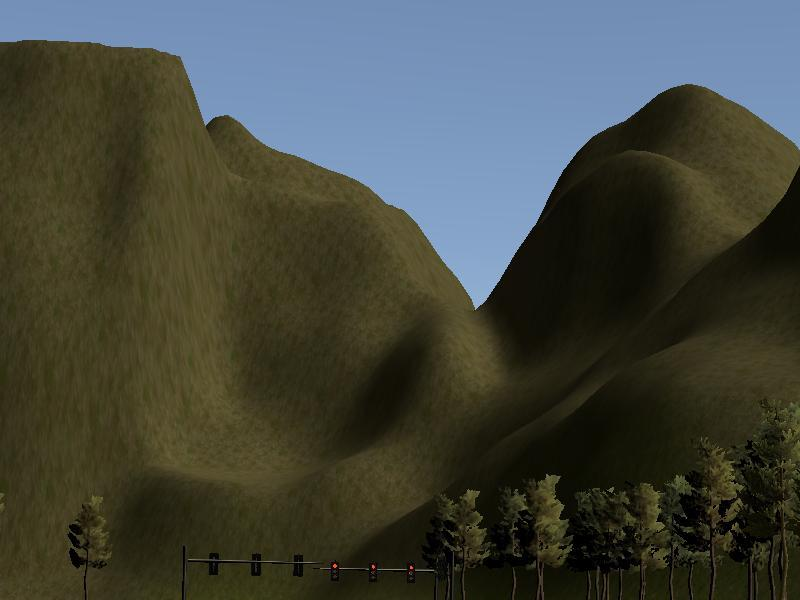Red: (405, 560, 416, 585), (368, 561, 378, 585), (330, 560, 340, 582)
